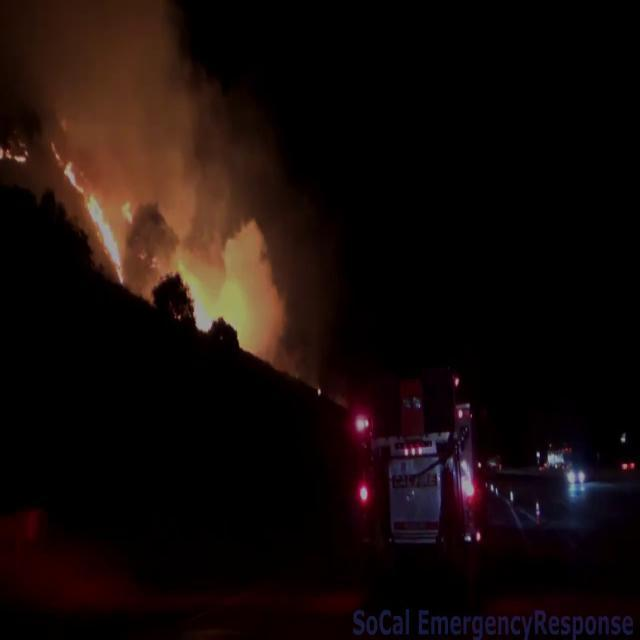Fire: (61, 141, 138, 288)
Smoke: (30, 0, 308, 370)
